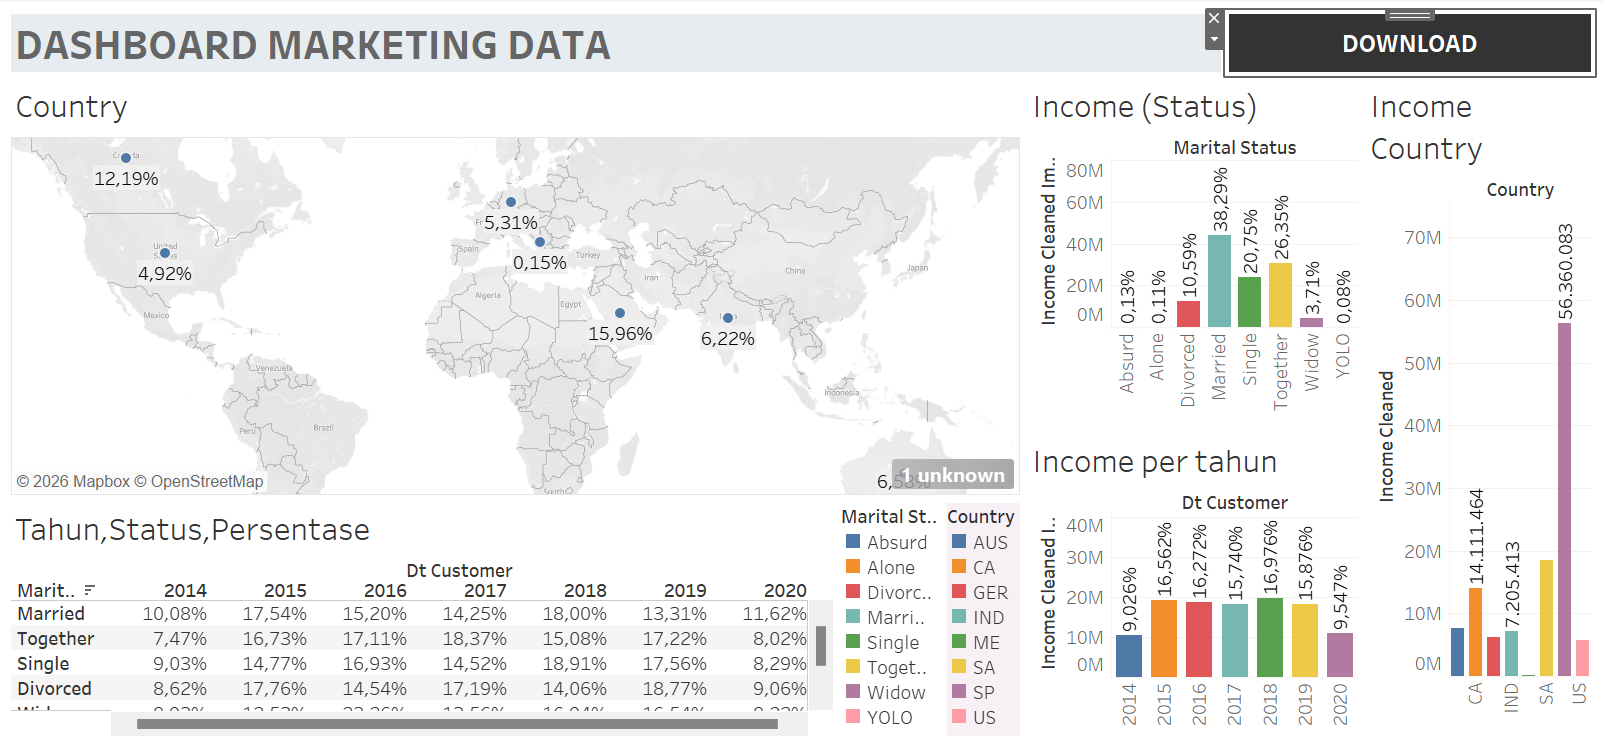

The dashboard page shown, as its layout file describes it:
{"tool":"tableau","page":{"name":"MARKETING DASHBOARD","canvas":[1000,1000],"units":"permille","ordinal":0},"visuals":[{"type":"text","box":[5,10.7,759.4,88.5]},{"type":"dashboard-object","box":[764.3,10.7,230.7,88.5]},{"type":"worksheet","title":"Country","mark":"Automatic","box":[5,99.2,634,567]},{"type":"worksheet","title":"Income (Status)","mark":"Automatic","rows":["Income Cleaned Imputation"],"cols":["Marital_Status"],"box":[639,99.2,210.7,475.2]},{"type":"worksheet","title":"Income Country","mark":"Automatic","rows":["Income Cleaned"],"cols":["Country"],"box":[849.8,99.2,145.3,890.1]},{"type":"worksheet","title":"Income per tahun","mark":"Bar","rows":["Income Cleaned Imputation"],"cols":["Dt_Customer"],"box":[639,574.4,210.7,414.9]},{"type":"worksheet","title":"Tahun,Status,Persentase","mark":"Automatic","rows":["Marital_Status"],"cols":["Dt_Customer"],"box":[5,666.2,517.5,323.1]},{"type":"legend","title":"Income (Status)","param":"[federated.1f5rkyf04wg9a40zzpl4w1wip3au].[none:Marital_Status:nk]","box":[522.4,666.2,66.1,323.1]},{"type":"legend","title":"Income Country","param":"[federated.1f5rkyf04wg9a40zzpl4w1wip3au].[none:Country:nk]","box":[588.5,666.2,50.5,323.1]}]}

Visuals, with their boxes on the dashboard's canvas, which has no fixed pixel size, in thousandths of its width and height (x1, y1, x2, y2). These are canvas units, not pixel positions in the 1603x742 screenshot, which may show the page scaled, cropped or inside an application window:
text: BBox(5, 11, 764, 99)
dashboard-object: BBox(764, 11, 995, 99)
"Country" worksheet: BBox(5, 99, 639, 666)
"Income (Status)" worksheet: BBox(639, 99, 850, 574)
"Income Country" worksheet: BBox(850, 99, 995, 989)
"Income per tahun" worksheet (Bar marks): BBox(639, 574, 850, 989)
"Tahun,Status,Persentase" worksheet: BBox(5, 666, 522, 989)
"Income (Status)" legend: BBox(522, 666, 588, 989)
"Income Country" legend: BBox(588, 666, 639, 989)
